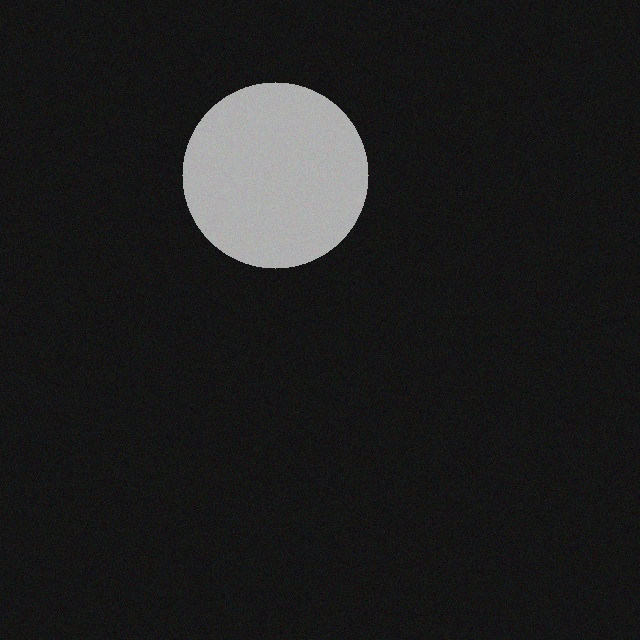circle: (194, 87, 380, 273)
